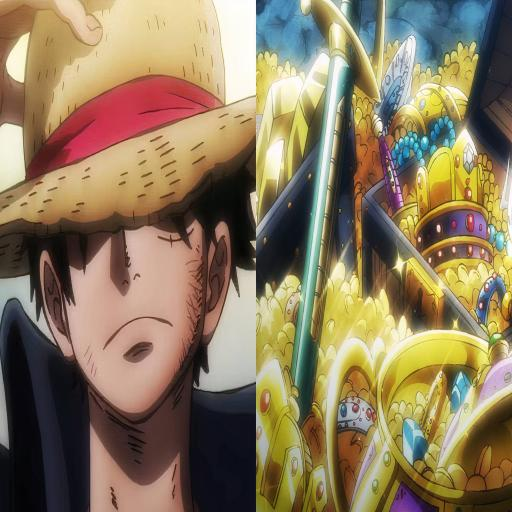Luffy: (0, 0, 258, 512)
